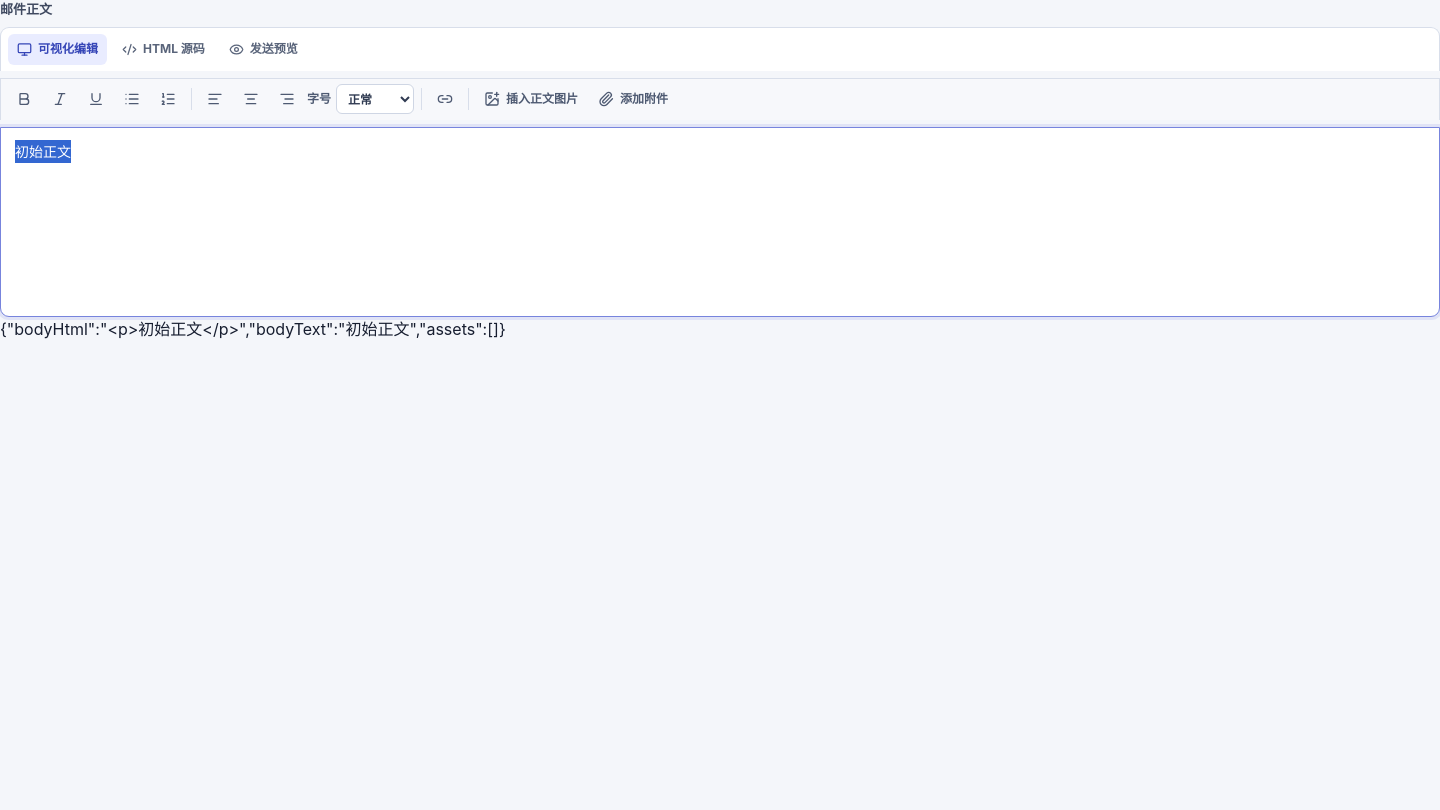
it: MailRichEditor › inserts, edits, and removes a safe hyperlink
Step 1. Click the button named "超链接" → (445, 99), box [429,84,461,114]
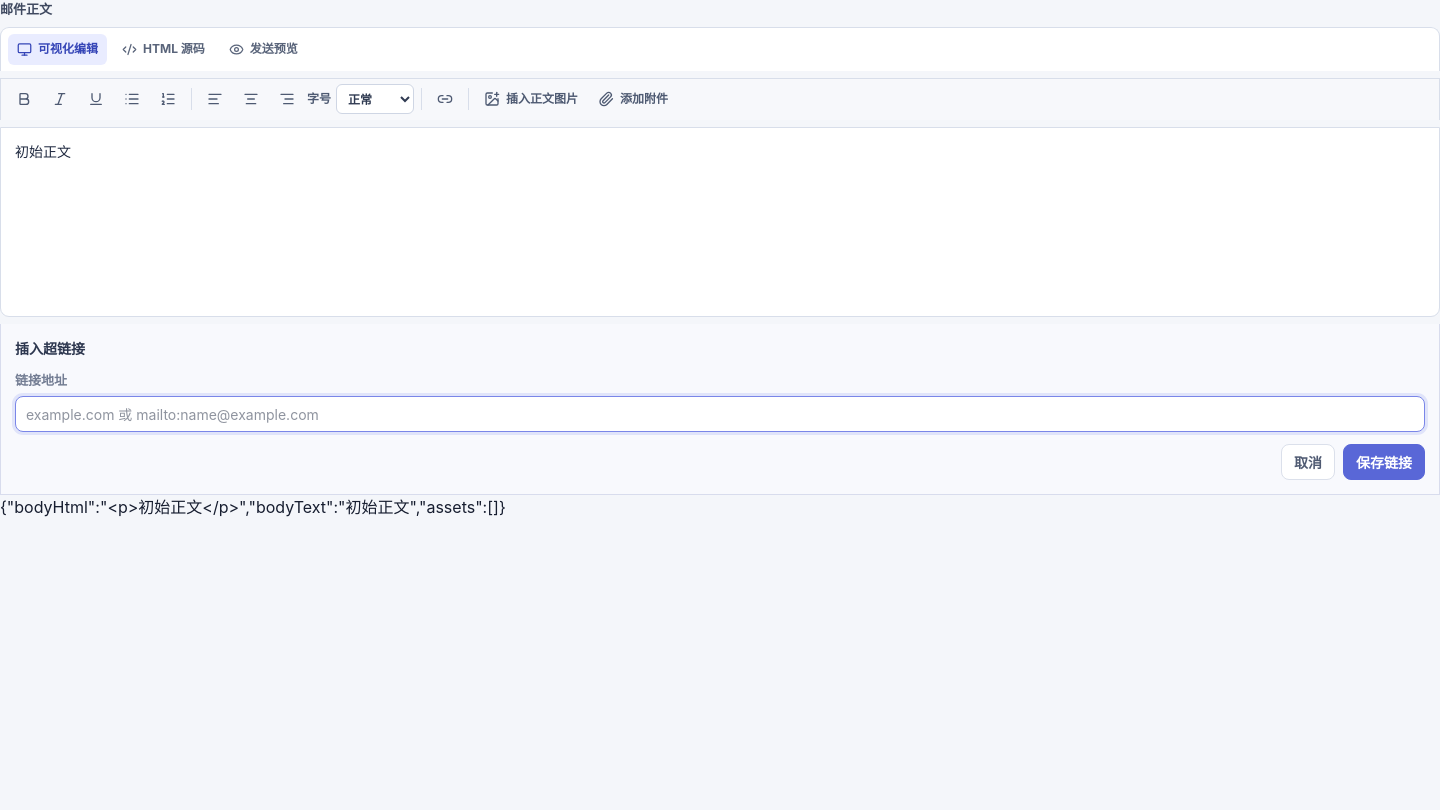
Step 2. Type "example.com/help" into the field labelled "链接地址" → (720, 414), box [15,396,1425,432]
Step 3. Click the button "保存链接" → (1384, 462), box [1343,444,1425,480]
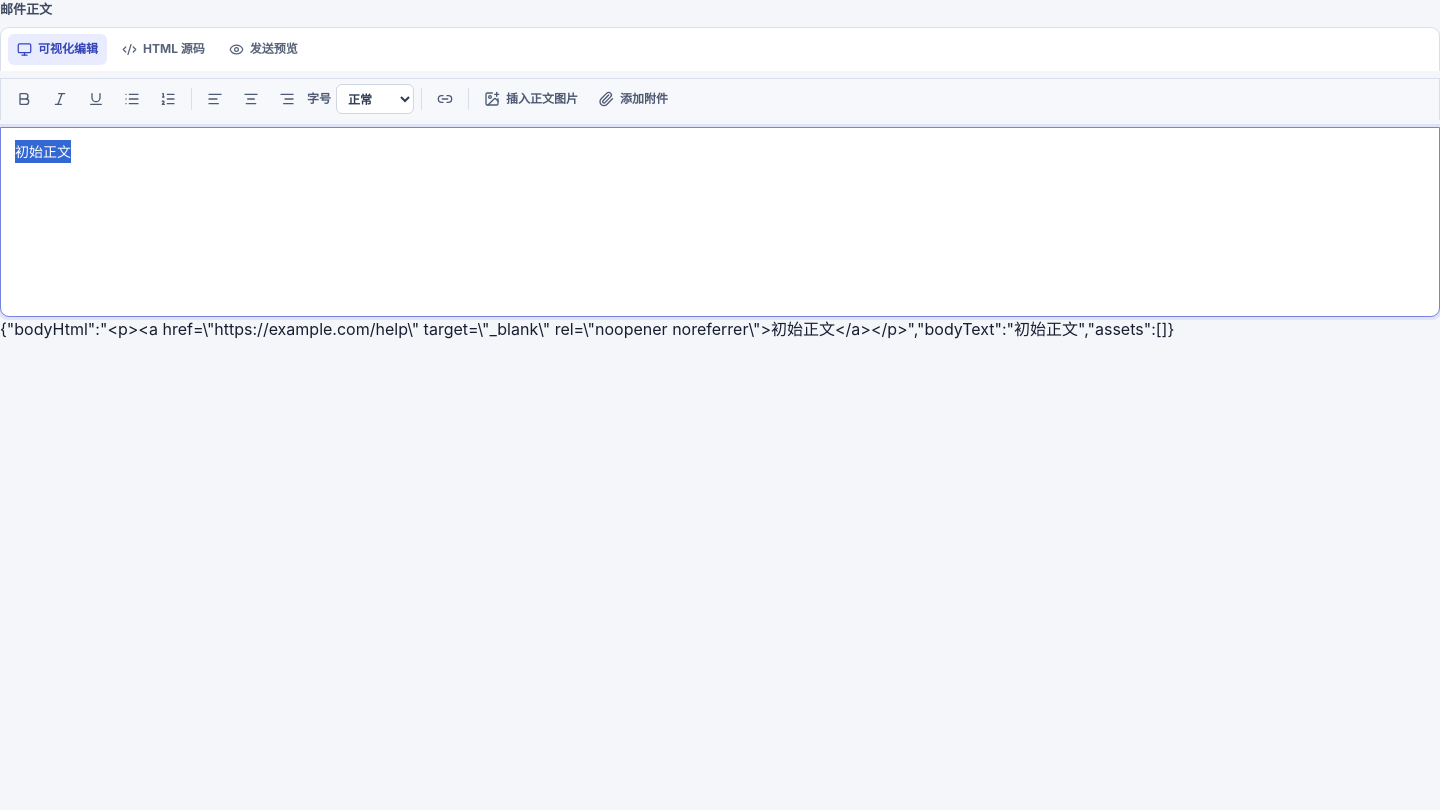
Expected: the text with test id "value" shows "href=\\\"https://example.com/help\\\"", [0,318,1174,338]
Expected: the text with test id "value" shows "rel=\\\"noopener noreferrer\\\"", [0,318,1174,338]
Step 4. Click the button named "超链接" → (445, 99), box [429,84,461,114]
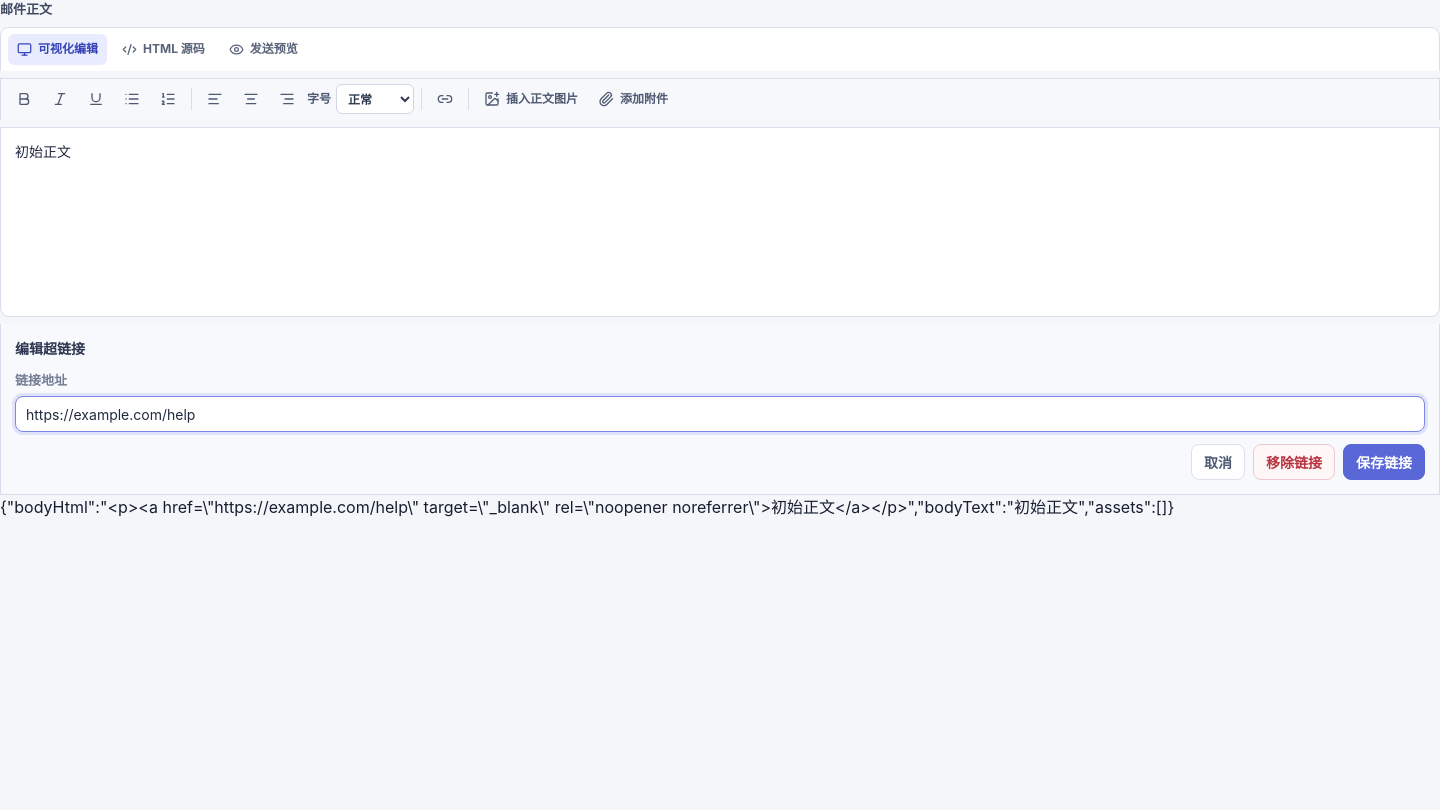
Expected: the field labelled "链接地址" holds "https://example.com/help"
Step 5. Replace the text in the field labelled "链接地址" with "https://example.com/updated" → (720, 414), box [15,396,1425,432]
Step 6. Click the button "保存链接" → (1384, 462), box [1343,444,1425,480]
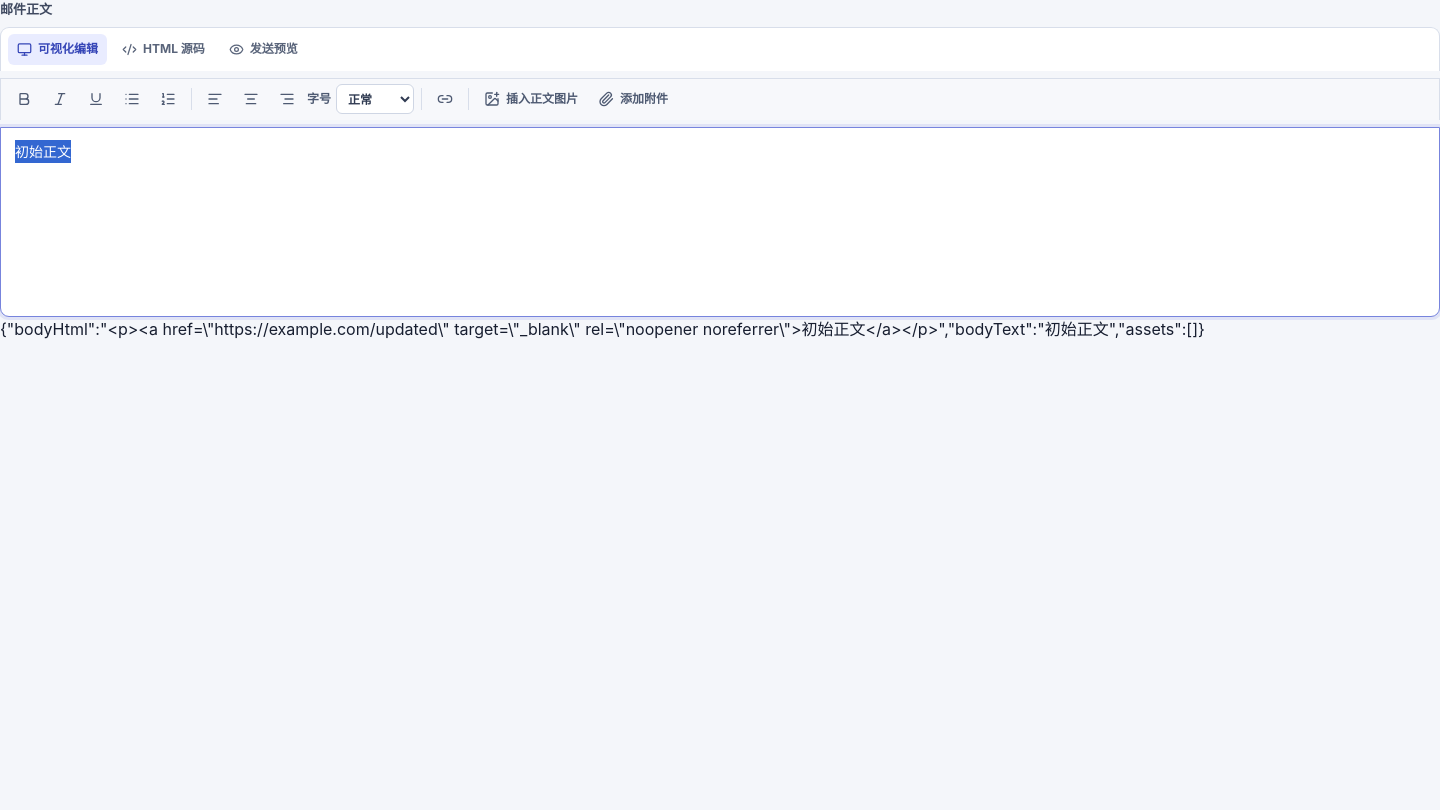
Expected: the text with test id "value" shows "https://example.com/updated", [0,318,1205,338]
Step 7. Click the button named "超链接" → (445, 99), box [429,84,461,114]
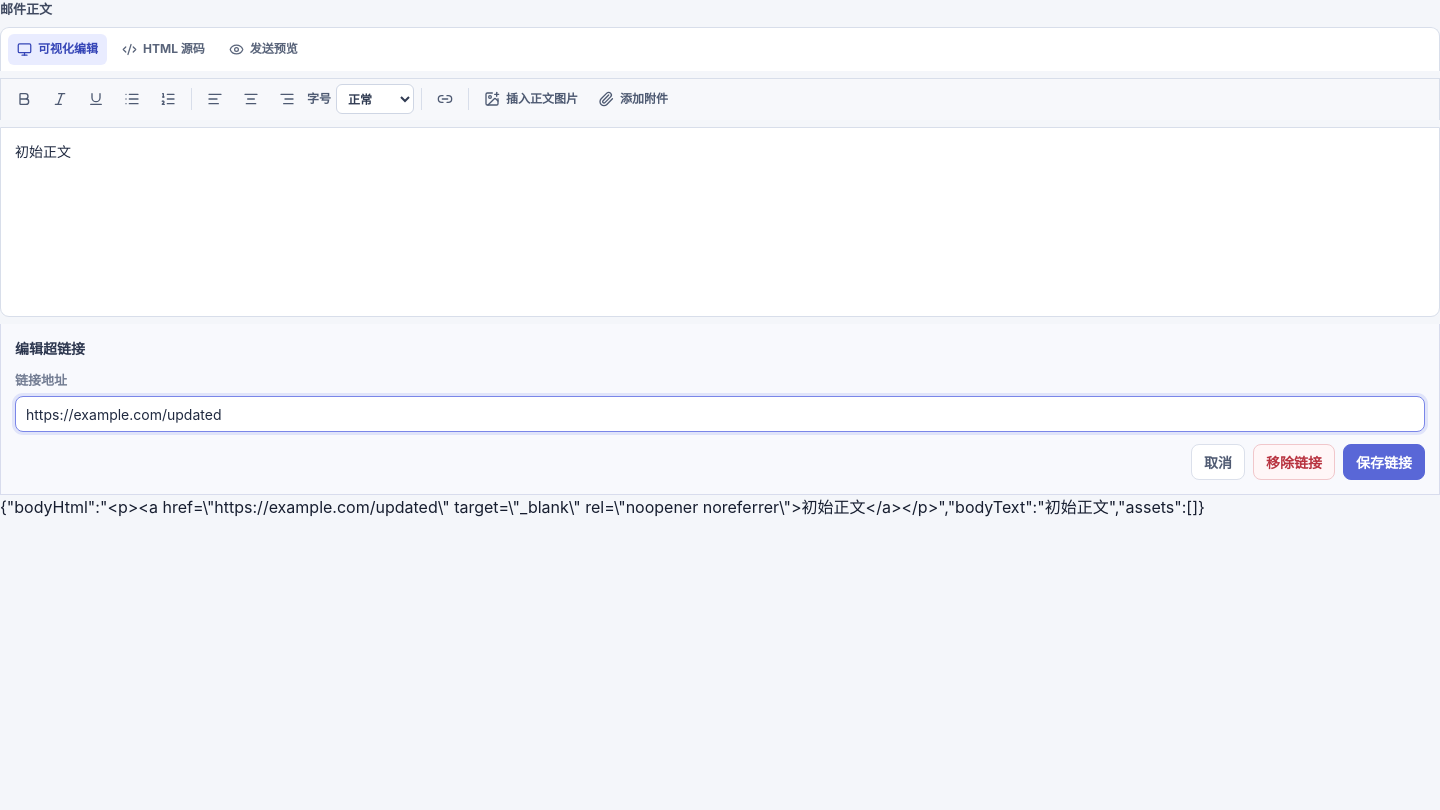
Step 8. Click the button "移除链接" → (1294, 462), box [1253,444,1335,480]
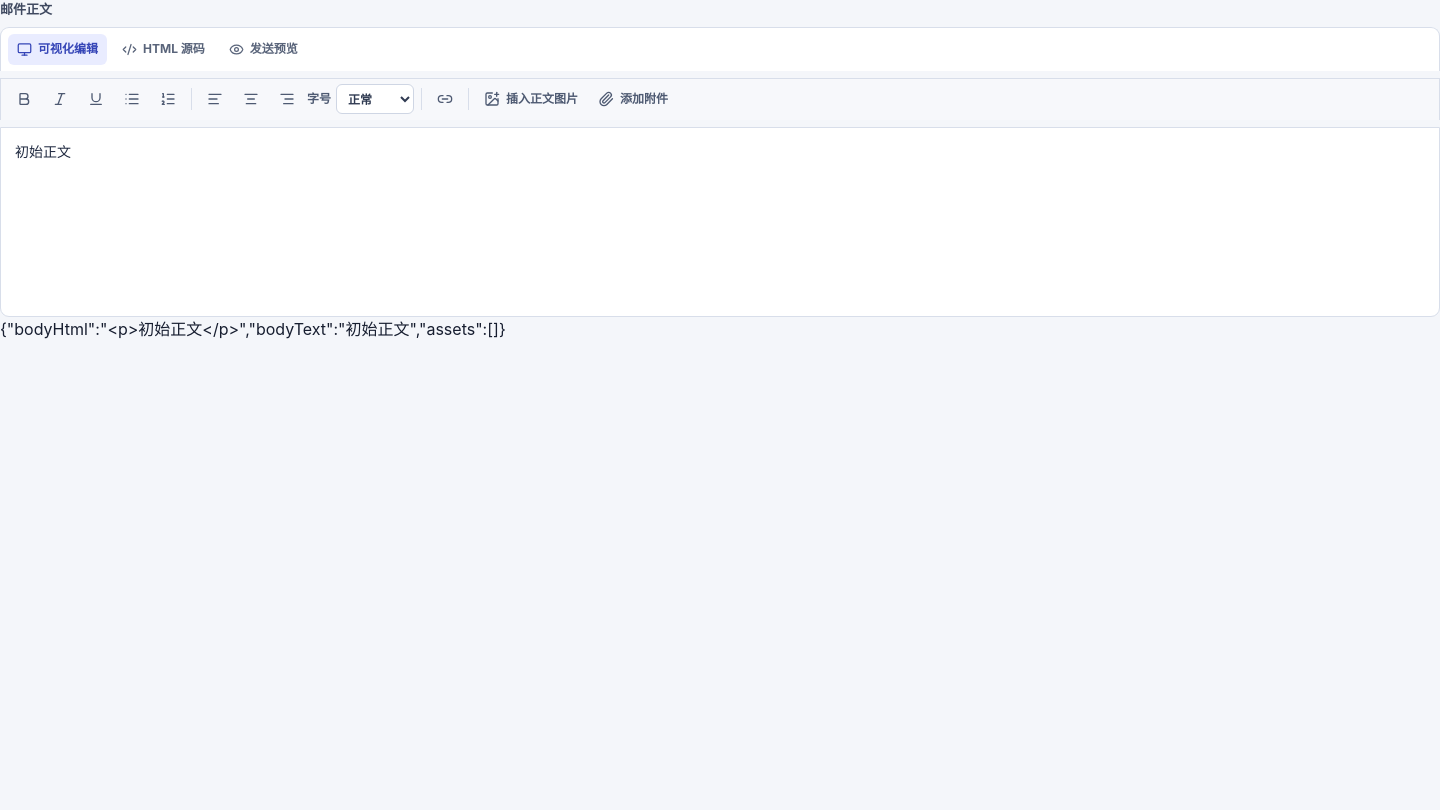
Expected: the text box "初始正文" is shown, [15,142,71,160]
Expected: the text with test id "value" no longer shows "<a", [0,318,506,338]
